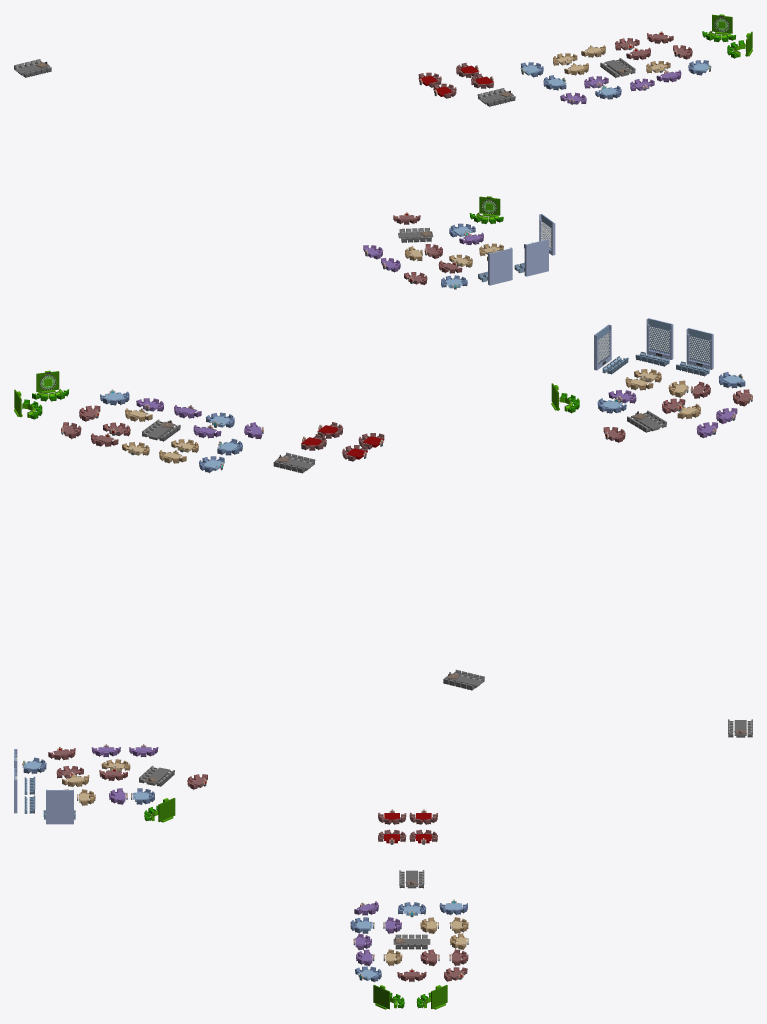
Rendered from vegas_tables.glb.
3 renders of one model, top to bottom at view 1: azimuth 30°, elevation 25°; view 2: azimuth 150°, elevation 25°; view 3: azimuth 270°, elevation 25°, orthographic. The views are drawn at different scales.
Visible parts, largest first — view 1: Roblox reference geometry; view 2: Roblox reference geometry; view 3: Roblox reference geometry.
Boxes of the visible parts, left/top/right/bottom form: Roblox reference geometry: left=14, top=14, right=752, bottom=289; Roblox reference geometry: left=14, top=318, right=752, bottom=690; Roblox reference geometry: left=14, top=719, right=752, bottom=1009.
Size of the model in its own units: 528 by 38.08 by 558.
